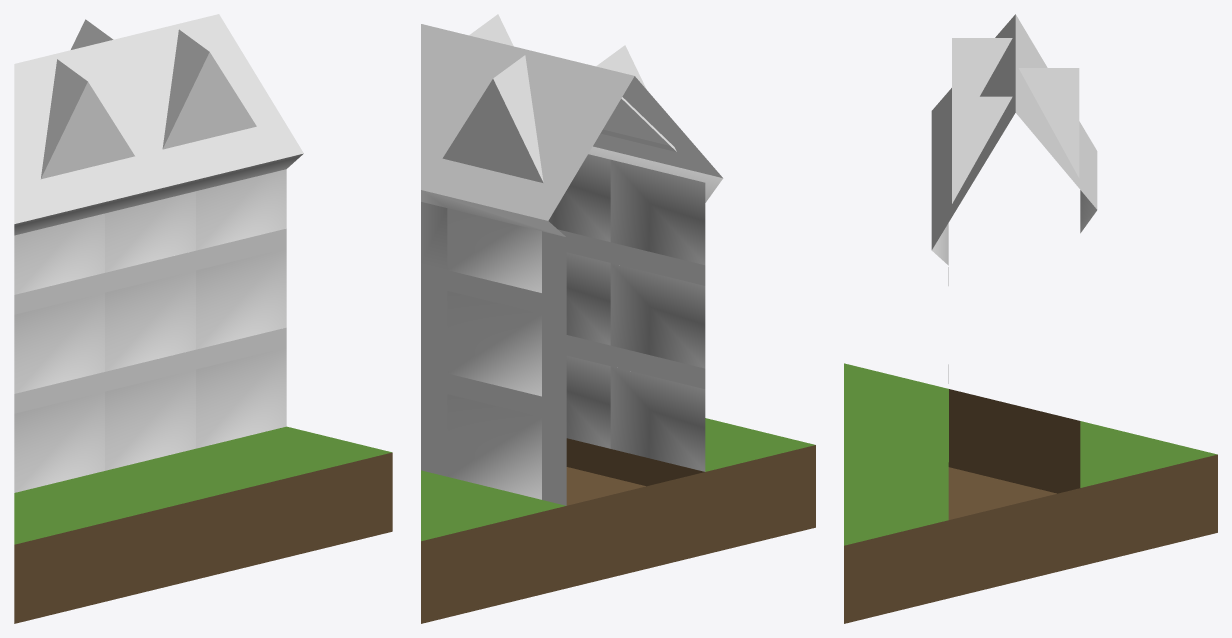
The model's file is Pis_Adossat_Simetric_ED.fbx.
3 views of the same model, side by side, from view 1: azimuth 30°, elevation 25°; view 2: azimuth 150°, elevation 25°; view 3: azimuth 270°, elevation 25° (orthographic). The views are drawn at different scales.
Parts seen in each view (by area): view 1: Pis_Adossat_Simetric_ED, DetallParet.028, DetallParet.031, DetallParet.032, DetallParet.029, DetallParet.030, DetallParet.033, DetallTeulada.019, DetallTeulada.018, DetallParet.034, DetallParet.035, DetallParet.036 (+1 smaller); view 2: Pis_Adossat_Simetric_ED, DetallParet.031, DetallParet.028, DetallParet.034, DetallParet.026, DetallParet.027, DetallTeulada.021, DetallParet.025, DetallParet.032, DetallParet.029, DetallParet.035, DetallTeulada.018 (+1 smaller); view 3: Pis_Adossat_Simetric_ED, DetallTeulada.021, DetallTeulada.019, DetallTeulada.018.
Part boxes in pixels (<box>): Pis_Adossat_Simetric_ED: <box>14,14,392,623</box>; DetallParet.028: <box>14,391,104,492</box>; DetallParet.031: <box>14,292,104,393</box>; DetallParet.032: <box>105,270,195,371</box>; DetallParet.029: <box>105,369,195,470</box>; DetallParet.030: <box>196,347,286,448</box>; DetallParet.033: <box>196,248,286,349</box>; DetallTeulada.019: <box>162,29,256,149</box>; DetallTeulada.018: <box>41,59,134,179</box>; DetallParet.034: <box>14,213,104,294</box>; DetallParet.035: <box>105,191,195,272</box>; DetallParet.036: <box>196,169,286,250</box>; Pis_Adossat_Simetric_ED: <box>421,24,815,623</box>; DetallParet.031: <box>610,263,705,368</box>; DetallParet.028: <box>610,366,705,471</box>; DetallParet.034: <box>610,159,705,264</box>; DetallParet.026: <box>447,291,541,396</box>; DetallParet.027: <box>447,394,541,499</box>; DetallTeulada.021: <box>442,55,543,182</box>; DetallParet.025: <box>447,208,541,292</box>; DetallParet.032: <box>566,252,610,345</box>; DetallParet.029: <box>566,355,610,448</box>; DetallParet.035: <box>548,154,610,241</box>; DetallTeulada.018: <box>596,45,676,151</box>; Pis_Adossat_Simetric_ED: <box>844,14,1217,623</box>; DetallTeulada.021: <box>1018,68,1079,177</box>; DetallTeulada.019: <box>952,96,1012,203</box>; DetallTeulada.018: <box>952,38,1012,96</box>.
Bounding box in the file's own units: 100 × 120 × 86.6.
